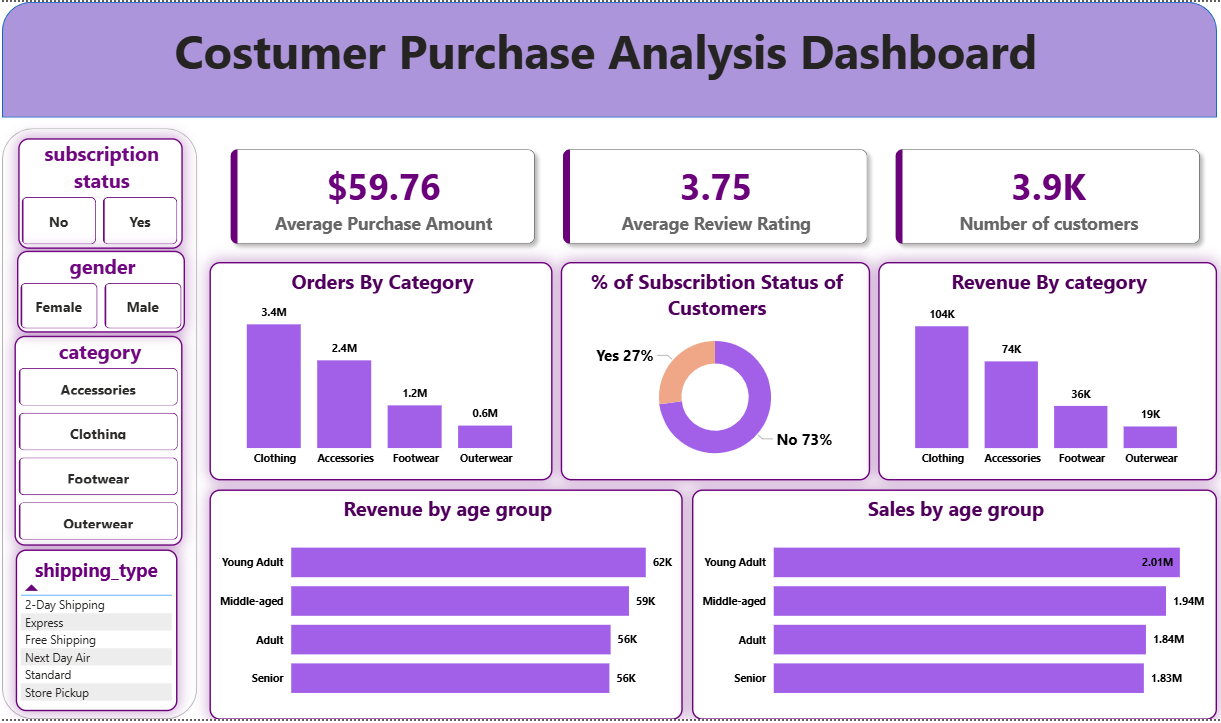

Layout of this report page (visuals, bound fields, positions):
{"tool":"powerbi","page":{"name":"Page 1","canvas":[1400,820],"ordinal":0},"visuals":[{"type":"cardVisual","fields":{"Data":["customer.Average Purchase Amount","customer.Average Review Rating","customer.Number of customers"]},"box":[243.1,144.6,1156.9,156.9],"z":0},{"type":"donutChart","title":"% of Subscribtion Status of Customers","fields":{"Category":["customer.subscription_status"],"Y":["CountNonNull(customer.customer_id)"]},"box":[644.6,296.9,353.8,249.2],"z":3000},{"type":"clusteredColumnChart","title":"Revenue By category","fields":{"Category":["customer.category"],"Y":["Sum(customer.purchase_amount)"]},"box":[1007,297.2,387.3,249.3],"z":4000},{"type":"clusteredColumnChart","title":"Orders By Category","fields":{"Category":["customer.category"],"Y":["Sum(customer.customer_id)"]},"box":[243.1,296.9,392.3,249.2],"z":5000},{"type":"advancedSlicerVisual","title":"subscription status","fields":{"Values":["customer.subscription_status"]},"box":[24.6,155.4,187.7,126.2],"z":6000},{"type":"advancedSlicerVisual","fields":{"Values":["customer.category"]},"box":[20,381.5,192.3,240],"z":7000},{"type":"advancedSlicerVisual","title":"gender","fields":{"Values":["customer.gender"]},"box":[23.1,284.6,192.3,93.8],"z":8000},{"type":"shape","box":[6.2,144.6,223.1,675.4],"z":9000},{"type":"tableEx","title":"Shipping Type","fields":{"Values":["customer.shipping_type"]},"box":[21.5,626.2,184.6,184.6],"z":10000},{"type":"clusteredBarChart","title":"Revenue by age group","fields":{"Category":["customer.age_group"],"Y":["Sum(customer.purchase_amount)"]},"box":[242.6,557.4,541.2,263.2],"z":11000},{"type":"clusteredBarChart","title":"Sales by age group","fields":{"Category":["customer.age_group"],"Y":["Sum(customer.customer_id)"]},"box":[794.1,557.4,600,263.2],"z":12000},{"type":"shape","box":[5.7,0,1388.5,132.2],"z":12500},{"type":"textbox","box":[66.2,14.7,1260.3,102.9],"z":13000}]}

Visuals, with their boxes in screenshot pixels (x1, y1, x2, y2), scaled from the page's 1400x820 canvas onto the 1221x723 screenshot:
cardVisual - customer.Average Purchase Amount x customer.Average Review Rating: detection(212, 127, 1220, 266)
"% of Subscribtion Status of Customers" donutChart: detection(562, 262, 871, 482)
"Revenue By category" clusteredColumnChart: detection(878, 262, 1216, 482)
"Orders By Category" clusteredColumnChart: detection(212, 262, 554, 482)
"subscription status" advancedSlicerVisual: detection(21, 137, 185, 248)
advancedSlicerVisual - customer.category: detection(17, 336, 185, 548)
"gender" advancedSlicerVisual: detection(20, 251, 188, 334)
shape: detection(5, 127, 200, 722)
"Shipping Type" tableEx: detection(19, 552, 180, 715)
"Revenue by age group" clusteredBarChart: detection(212, 491, 684, 722)
"Sales by age group" clusteredBarChart: detection(693, 491, 1216, 722)
shape: detection(5, 0, 1216, 117)
textbox: detection(58, 13, 1157, 104)
